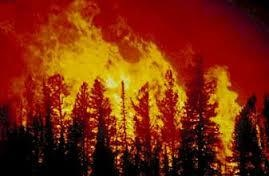fire: (1, 8, 231, 160)
